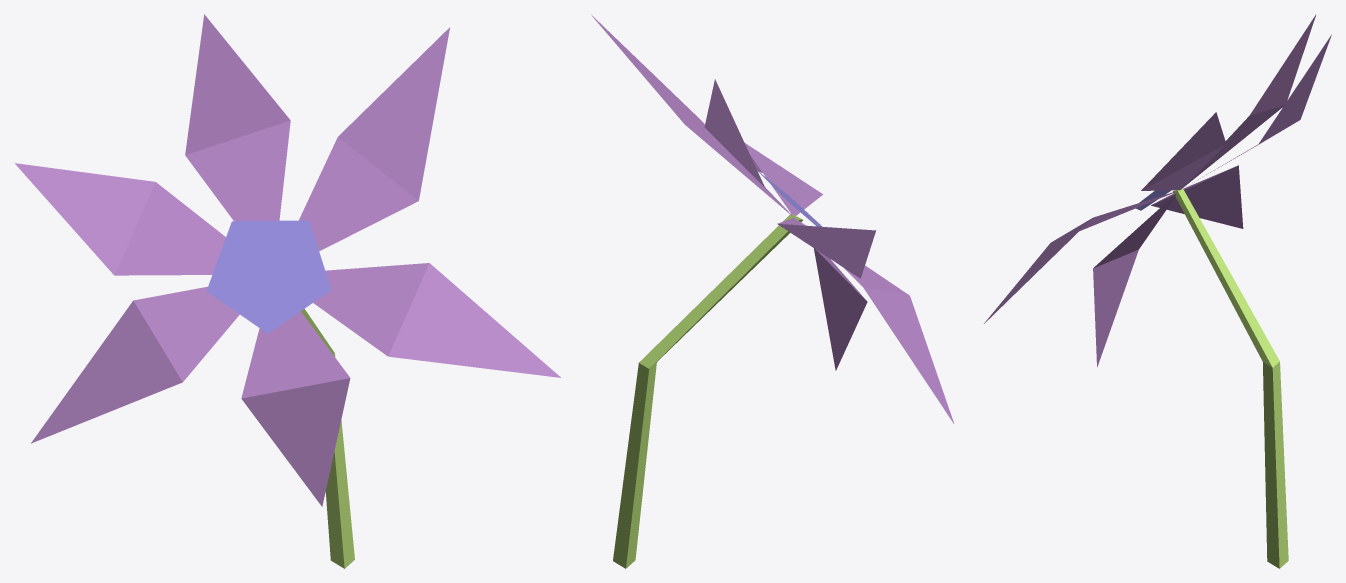
The model's file is Flower_b_TwoS_05.fbx.
The picture shows the model from 3 angles, left to right: view 1: azimuth 30°, elevation 25°; view 2: azimuth 150°, elevation 25°; view 3: azimuth 270°, elevation 25°; orthographic projection. The views are drawn at different scales.
Visible parts, largest first — view 1: Flower_b_TwoS_05; view 2: Flower_b_TwoS_05; view 3: Flower_b_TwoS_05.
Part boxes in pixels (x1,y1,x2,y2): Flower_b_TwoS_05: (14,14,560,568); Flower_b_TwoS_05: (591,14,954,568); Flower_b_TwoS_05: (984,15,1331,568).
Size of the model in its own units: 29.92 by 39.75 by 25.21.
